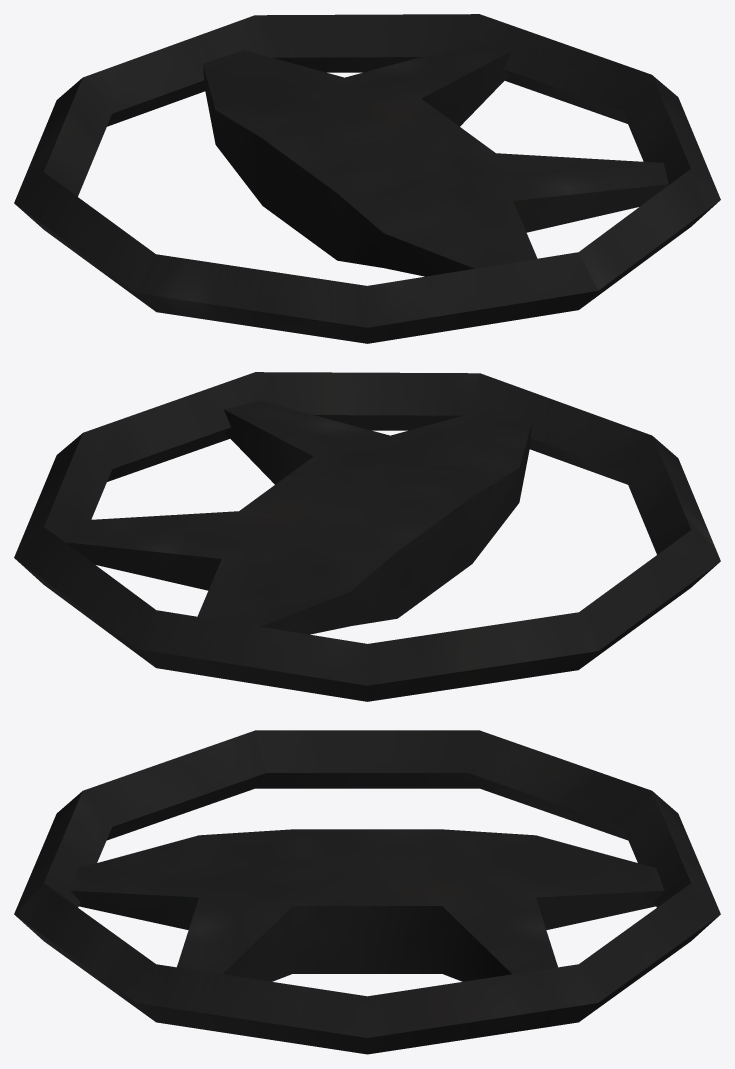
File: BusWheel.glb
3 renders of one model, top to bottom at view 1: azimuth 30°, elevation 25°; view 2: azimuth 150°, elevation 25°; view 3: azimuth 270°, elevation 25°, orthographic.
Parts seen in each view (by area): view 1: Bus.001; view 2: Bus.001; view 3: Bus.001.
Part boxes in pixels (<box>): Bus.001: <box>14,14,720,343</box>; Bus.001: <box>14,372,720,701</box>; Bus.001: <box>14,730,720,1054</box>.
Size of the model in its own units: 0.6062 by 0.0699 by 0.6155.
1 material, 1 textured.
